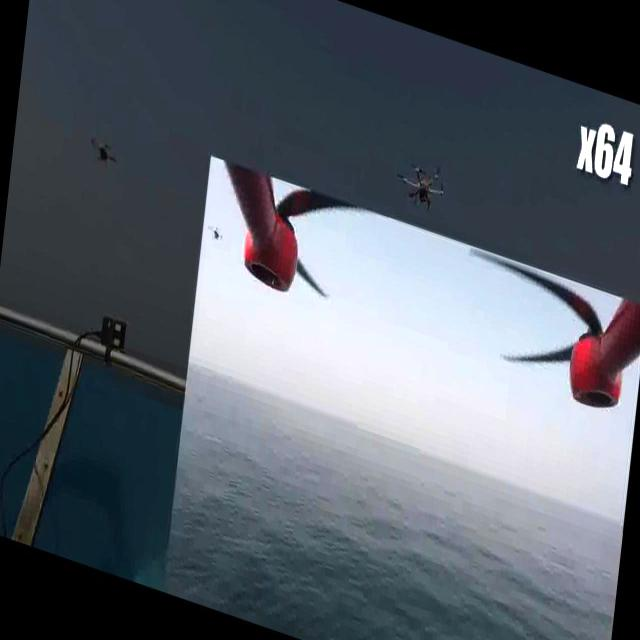drone: (387, 144, 457, 238), (86, 120, 125, 179), (203, 213, 233, 251)
